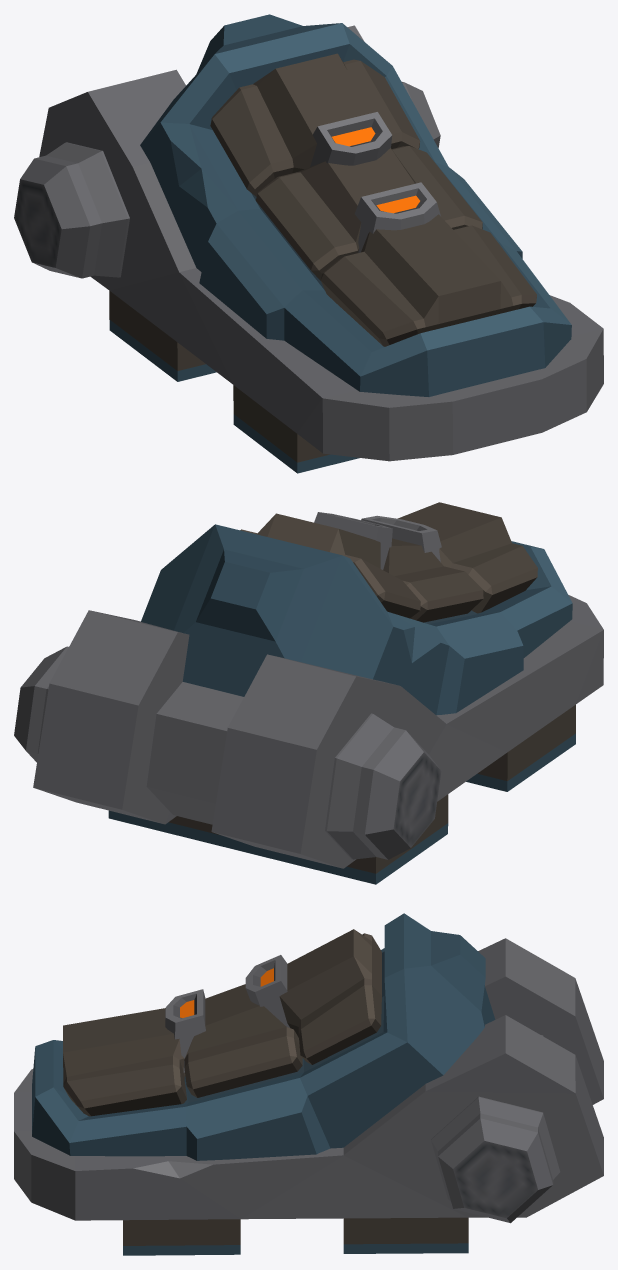
The model's file is SM_Mech_Foot_01_Armor_Toes_02.fbx.
The picture shows the model from 3 angles, top to bottom: view 1: azimuth 30°, elevation 25°; view 2: azimuth 150°, elevation 25°; view 3: azimuth 270°, elevation 25°; orthographic projection. The views are drawn at different scales.
Visible parts, largest first — view 1: SM_Mech_Foot_01_Armor_Toes_02; view 2: SM_Mech_Foot_01_Armor_Toes_02; view 3: SM_Mech_Foot_01_Armor_Toes_02.
Part boxes in pixels (box(x1,y1,x2,y2)): SM_Mech_Foot_01_Armor_Toes_02: box(14, 14, 603, 473); SM_Mech_Foot_01_Armor_Toes_02: box(14, 502, 603, 884); SM_Mech_Foot_01_Armor_Toes_02: box(14, 913, 603, 1255).
Bounding box in the file's own units: 57.09 × 41.07 × 86.18.
